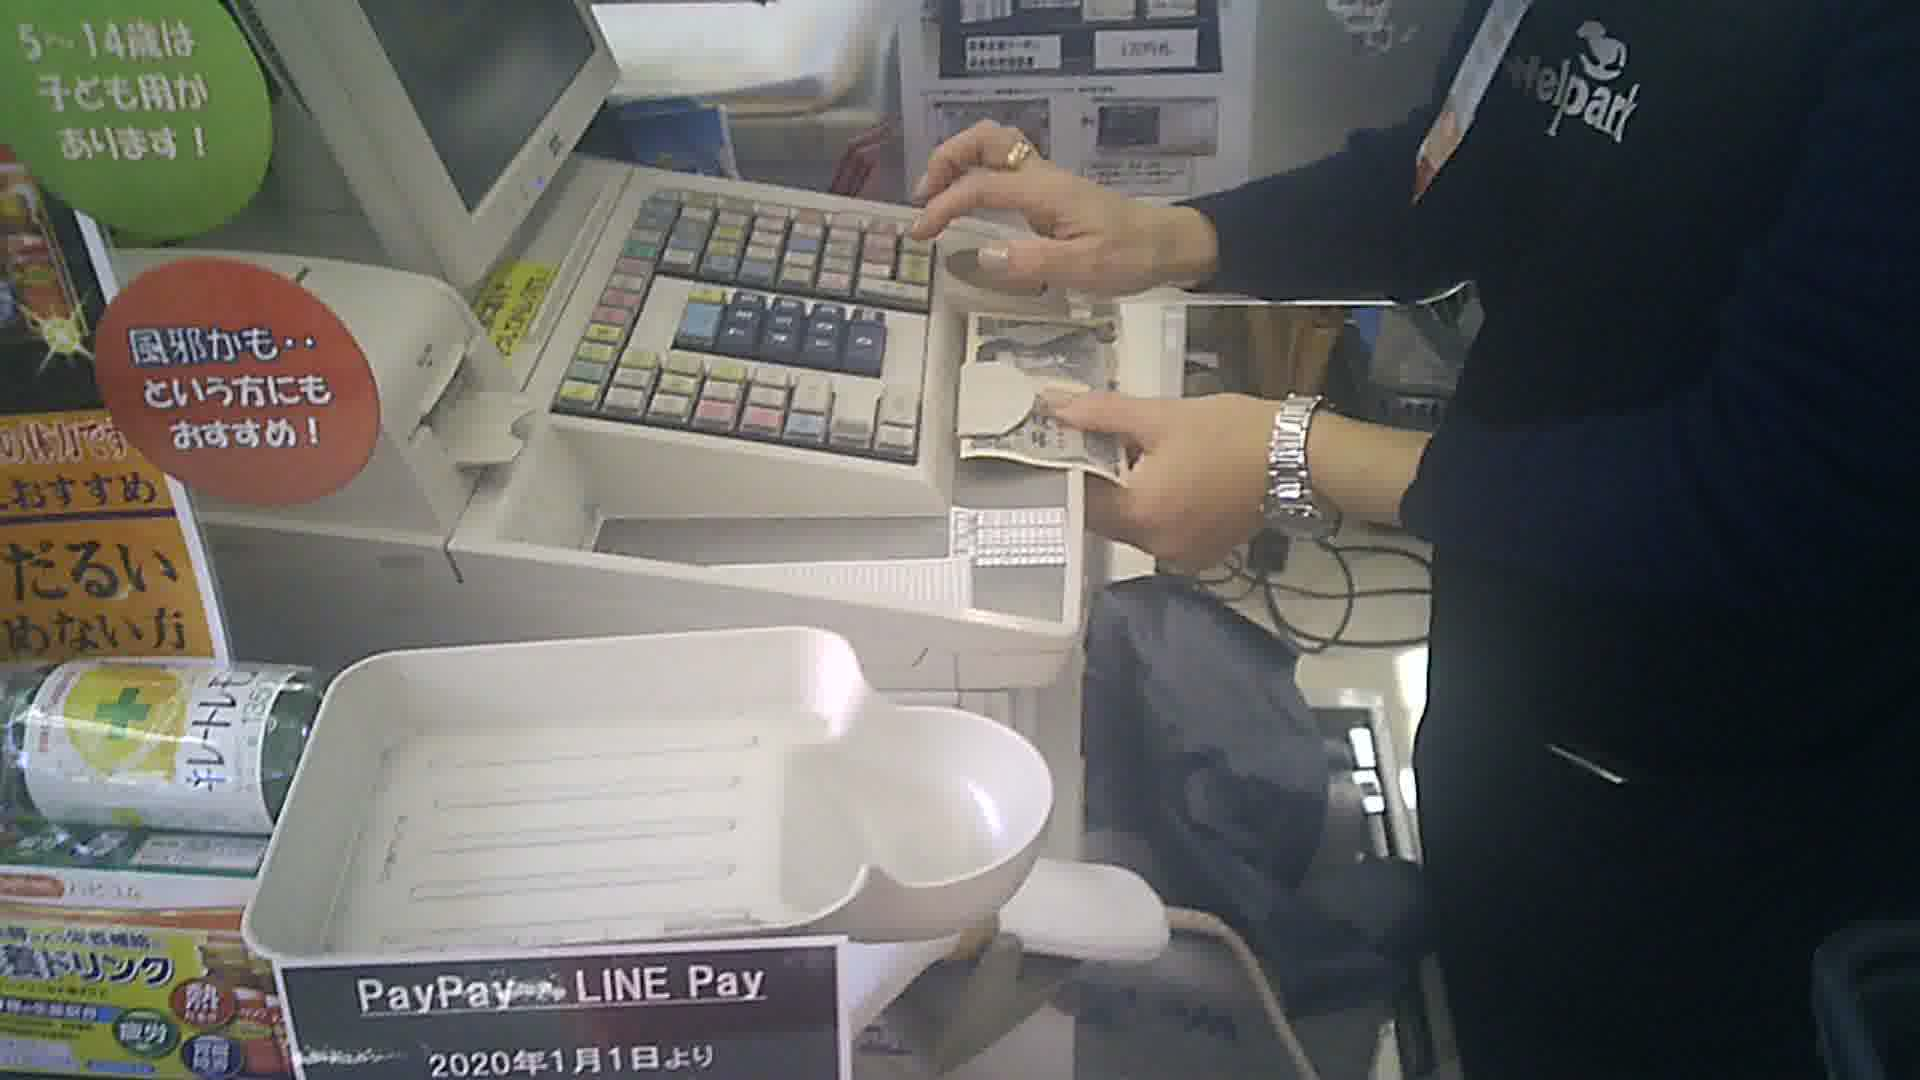1,000 Yen: (961, 291, 1170, 488)
